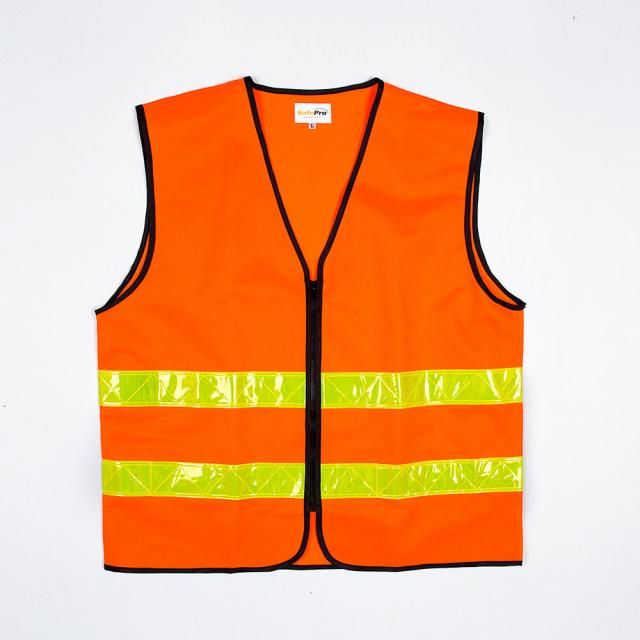Reflective-Jacket: (90, 65, 537, 591)
